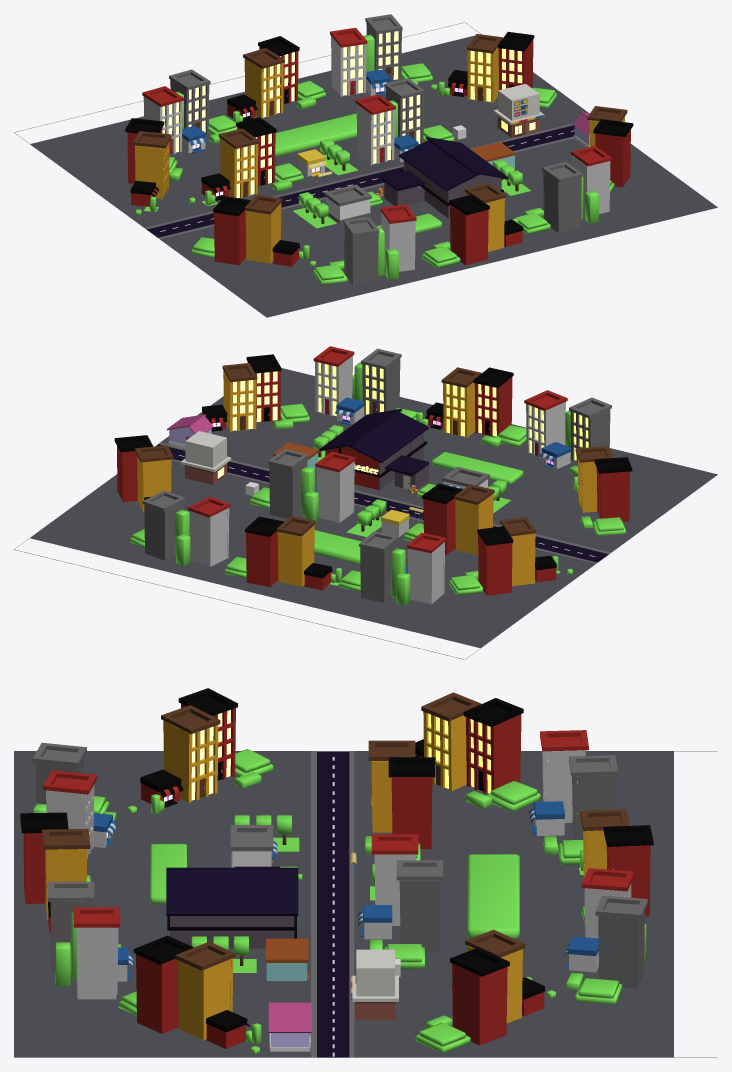
The model's file is 66 cenario.fbx.
3 renders of one model, top to bottom at view 1: azimuth 30°, elevation 25°; view 2: azimuth 150°, elevation 25°; view 3: azimuth 270°, elevation 25°, orthographic. The views are drawn at different scales.
Parts seen in each view (by area): view 1: estrada.002, Plane.002, Cube.002, base teatro, estrada.001, Plane.003, estrada, bodega, Cube.014, casa prota, Plane.001, Cube.007 (+1 smaller); view 2: estrada.002, Plane.002, Cube.002, base teatro, Plane.003, estrada.001, bodega, estrada, Cube.014, casa, base teatro.003, casa prota (+2 smaller); view 3: estrada.002, Plane.002, Cube.002, estrada.001, base teatro, Plane.003, estrada, bodega, casa, casa prota, Cube.014, base cafeteria (+2 smaller).
Part boxes in pixels (box(x1,y1,x2,y2)): estrada.002: box(30, 35, 717, 317); Plane.002: box(125, 31, 633, 268); Cube.002: box(142, 14, 611, 285); base teatro: box(381, 137, 508, 218); estrada.001: box(147, 125, 574, 237); Plane.003: box(275, 113, 441, 233); estrada: box(14, 22, 717, 317); bodega: box(493, 84, 544, 137); Cube.014: box(299, 139, 522, 223); casa prota: box(324, 184, 371, 223); Plane.001: box(293, 154, 530, 228); Cube.007: box(297, 149, 326, 176); estrada.002: box(30, 368, 717, 648); Plane.002: box(114, 354, 632, 595); Cube.002: box(130, 346, 611, 605); base teatro: box(319, 408, 428, 490); Plane.003: box(314, 452, 523, 564); estrada.001: box(156, 444, 608, 562); bodega: box(181, 431, 231, 485); estrada: box(14, 442, 717, 659); Cube.014: box(314, 425, 506, 531); casa: box(166, 414, 213, 448); base teatro.003: box(325, 446, 378, 489); casa prota: box(442, 466, 489, 489); estrada.002: box(14, 751, 673, 1057); Plane.002: box(20, 688, 653, 1054); Cube.002: box(32, 730, 647, 1004); estrada.001: box(317, 751, 349, 1057); base teatro: box(166, 866, 298, 948); Plane.003: box(150, 843, 519, 938); estrada: box(14, 751, 717, 1057); bodega: box(351, 949, 398, 1020); casa: box(268, 1002, 311, 1051); casa prota: box(230, 825, 277, 867); Cube.014: box(191, 815, 374, 965); base cafeteria: box(266, 938, 309, 978).
Bounding box in the file's own units: 21660 × 2632 × 21037.
